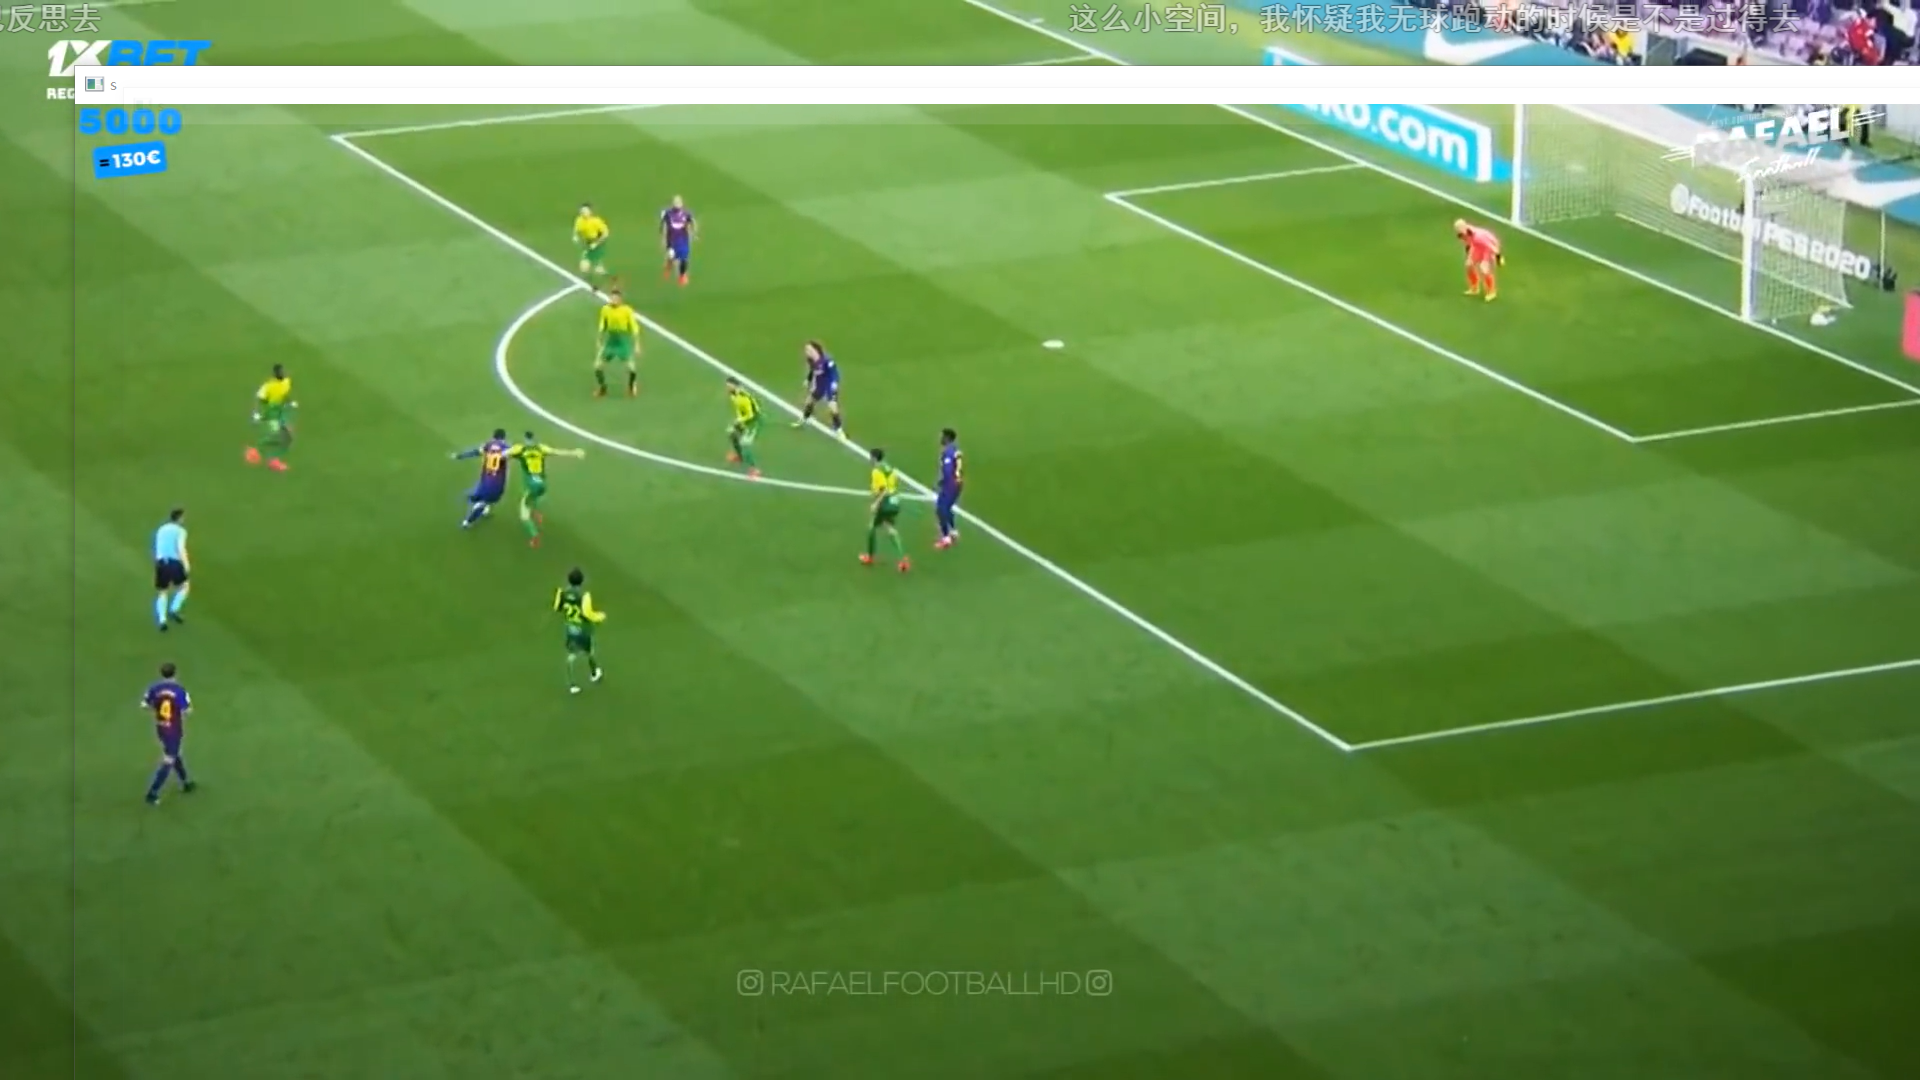ft: (471, 498, 492, 521)
